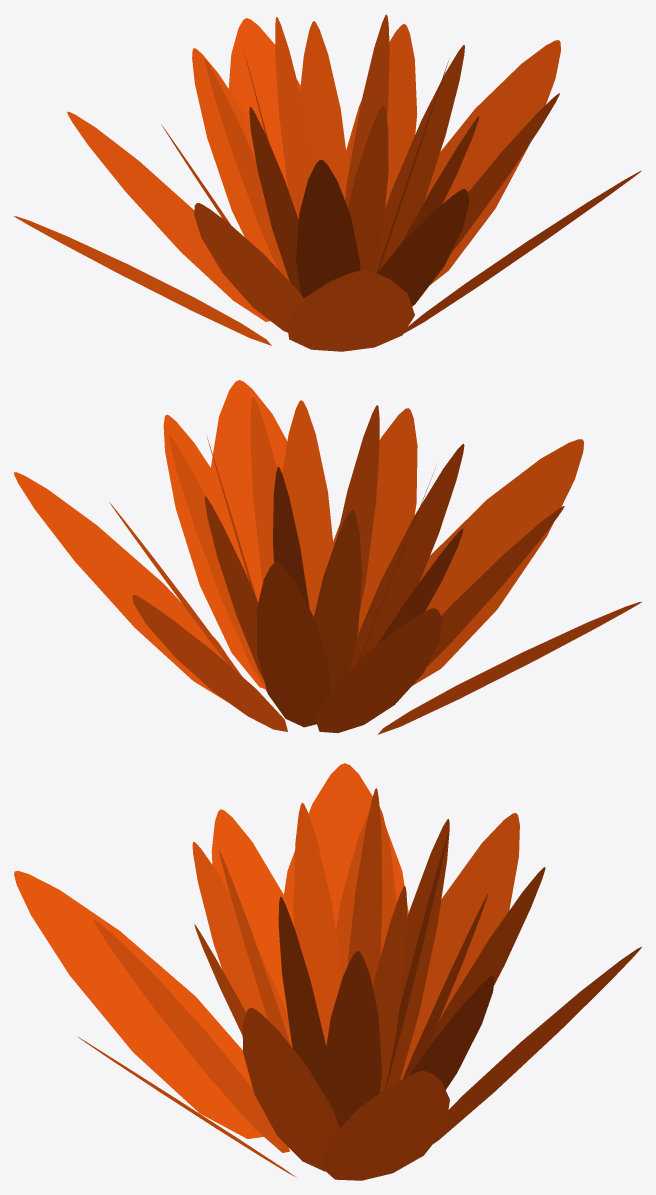
File: Grass.fbx
The picture shows the model from 3 angles, top to bottom: view 1: azimuth 30°, elevation 25°; view 2: azimuth 150°, elevation 25°; view 3: azimuth 270°, elevation 25°; orthographic projection. The views are drawn at different scales.
Parts seen in each view (by area): view 1: Circle.016; view 2: Circle.016; view 3: Circle.016.
Boxes of the visible parts, bbox=[...] form: Circle.016: bbox=[14, 14, 641, 351]; Circle.016: bbox=[14, 380, 641, 734]; Circle.016: bbox=[14, 763, 641, 1180].
Bounding box in the file's own units: 50.95 × 23.64 × 42.21.
